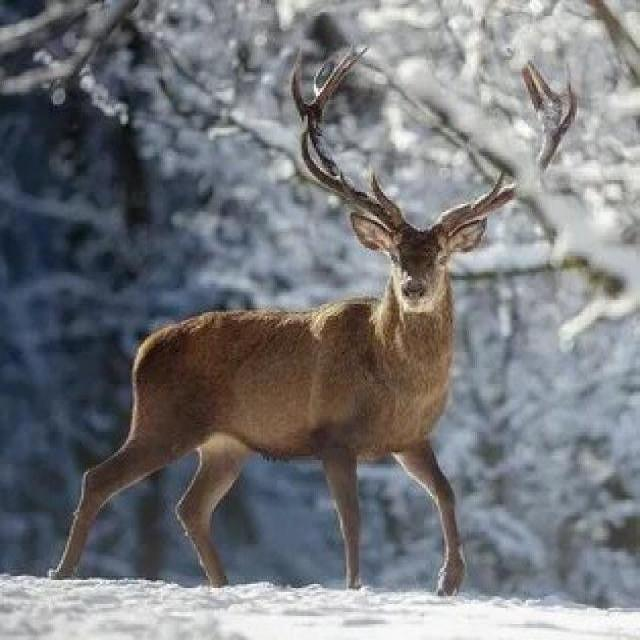deer: (83, 173, 484, 592)
